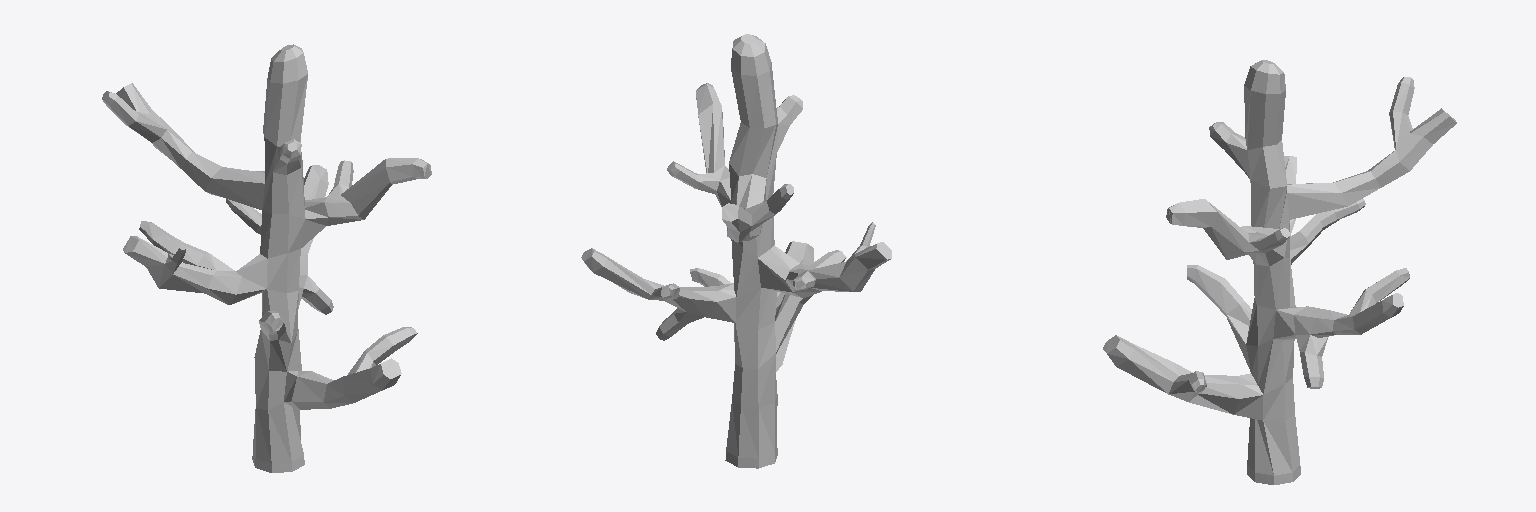
File: Coral_A_03_LOD2.obj
The picture shows the model from 3 angles: view 1: azimuth 30°, elevation 25°; view 2: azimuth 150°, elevation 25°; view 3: azimuth 270°, elevation 25°; orthographic projection.
Visible parts, largest first — view 1: Coral_A_03_LOD2_Cylinder.417; view 2: Coral_A_03_LOD2_Cylinder.417; view 3: Coral_A_03_LOD2_Cylinder.417.
Part boxes in pixels (x1,y1,x2,y2): Coral_A_03_LOD2_Cylinder.417: (102,44,431,472); Coral_A_03_LOD2_Cylinder.417: (581,34,891,468); Coral_A_03_LOD2_Cylinder.417: (1103,60,1456,484).
Bounding box in the file's own units: 6.55 × 10.21 × 7.87.